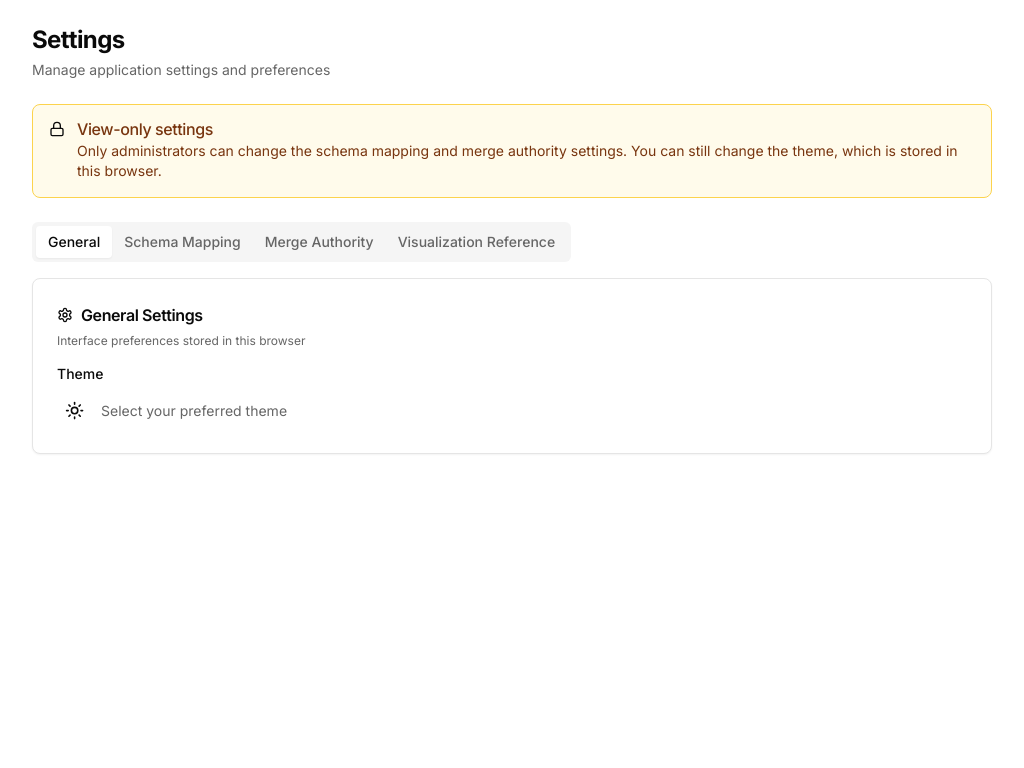
it: Settings page: Merge authority card › shows the view-only notice and a read-only table to a viewer
The width and height of the screenshot is (1024, 768).
Check: the text "View-only settings" is shown, box x1=77 y1=119 x2=213 y2=139
Check: the text "merge authority settings" is shown, box x1=77 y1=142 x2=627 y2=159
Click the tab "Merge Authority" at point(319, 242), box x1=253 y1=226 x2=386 y2=258
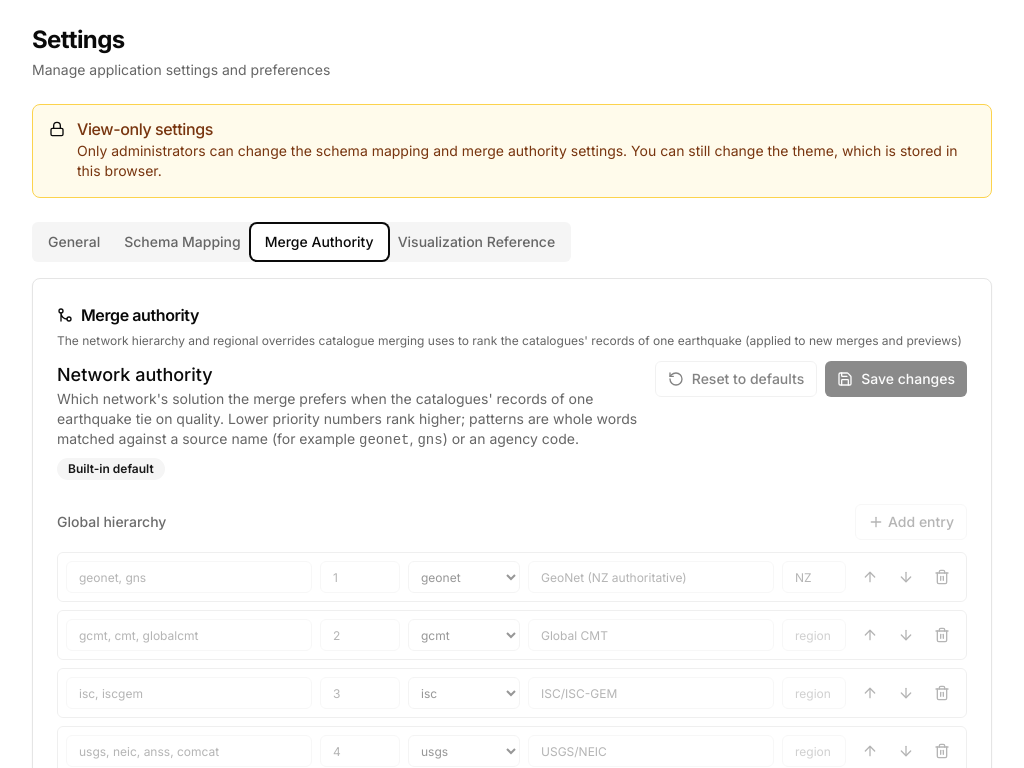
Check: the field named "Hierarchy 1 patterns" is disabled, box x1=66 y1=561 x2=312 y2=593
Check: the button "Save changes" is disabled, box x1=825 y1=361 x2=967 y2=397
